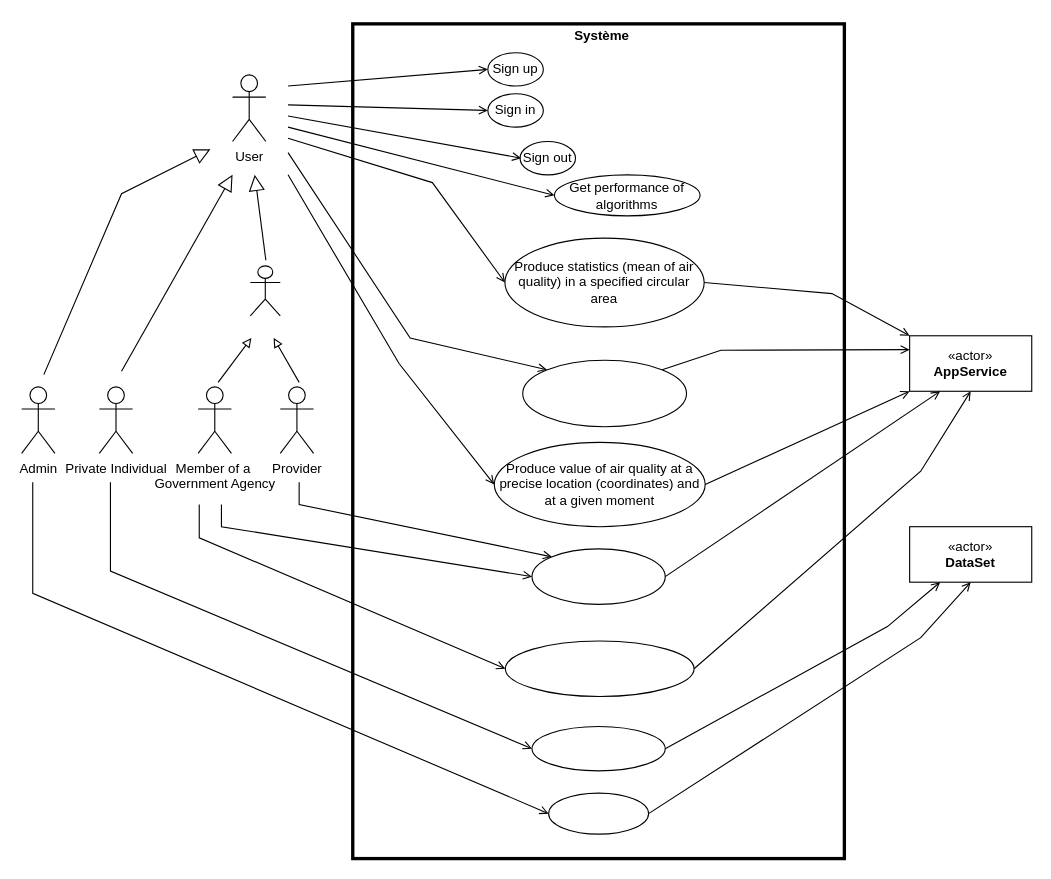
The diagram is 1051 pixels wide and 879 high, and some of its shapes have lost their labels. Each missing label, with the centre of its shape:
Analyse data provided by private individuals' sensors: point 599,668
Manage user rights: point 598,813
Observe impacts of Air Cleaners: point 598,576
See personal awarded points: point 598,748
Select one sensor and Score and Rank similar sensors: point 604,393
Super User: point 264,290
